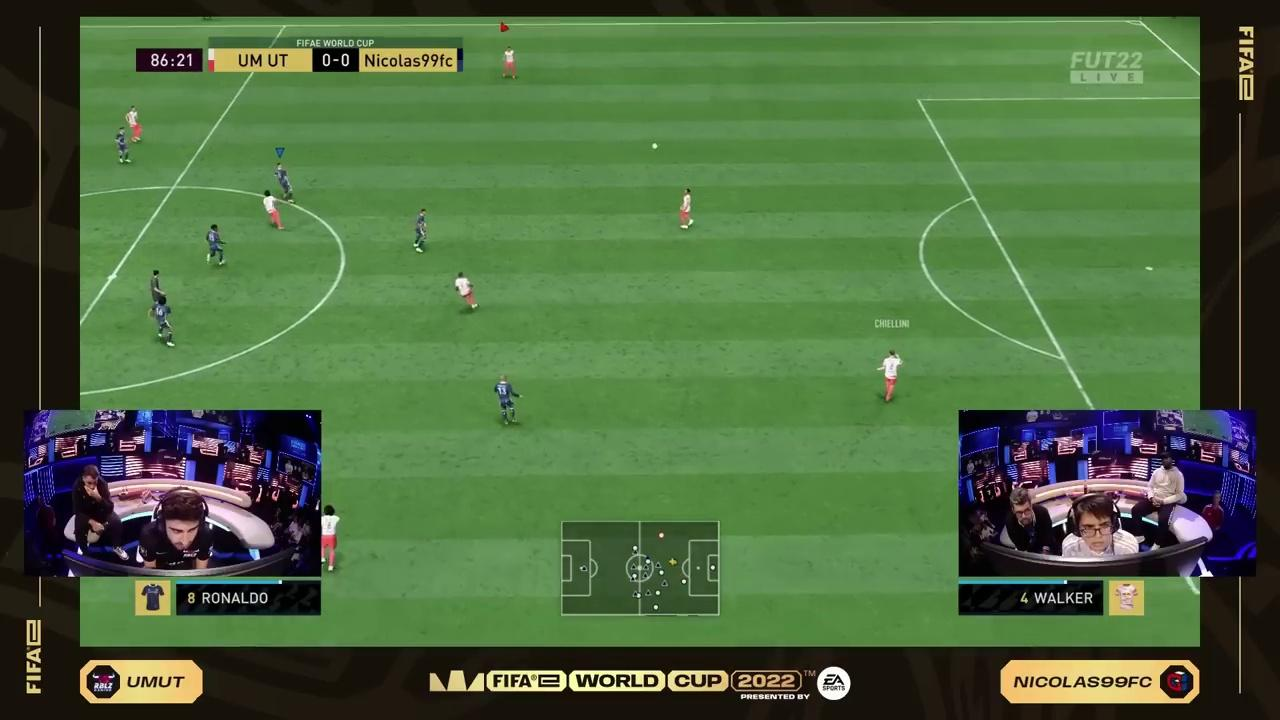scoreboard: (206, 44, 462, 74)
timestamp: (136, 44, 204, 73)
